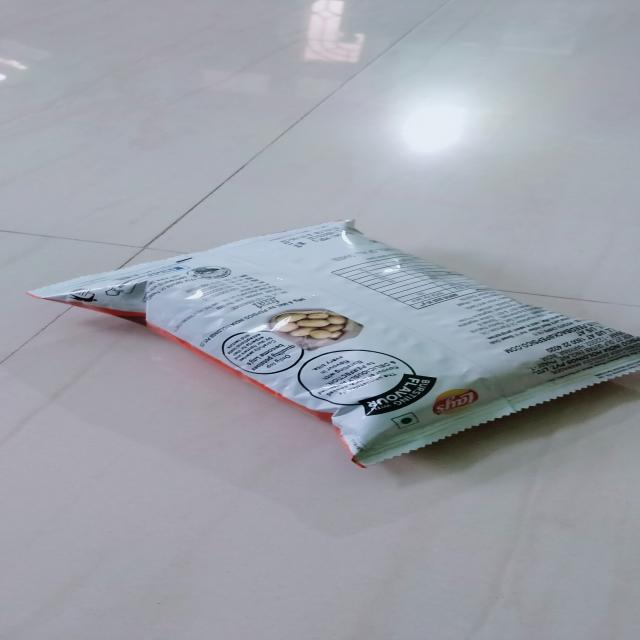lays: (21, 219, 640, 472)
